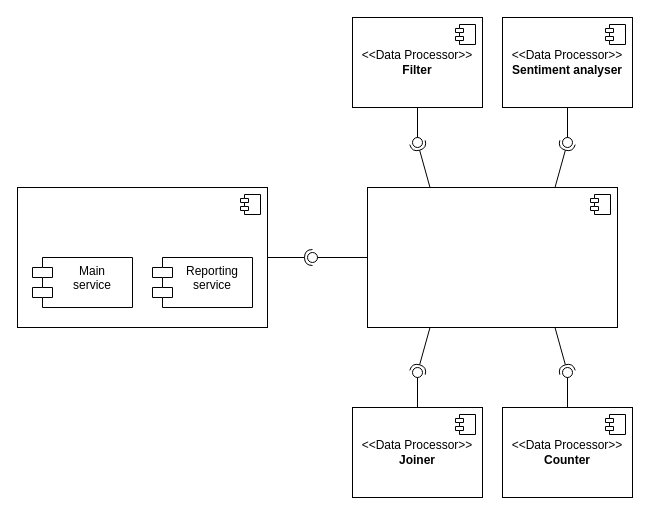
The diagram is 650 pixels wide and 515 high, and some of its shapes have lost their labels. Here are the shapes that lost their labels. From the top down, the box of each, then its label:
(16, 186, 268, 328): Amazon Books Analyzer
(366, 186, 618, 328): Query master
